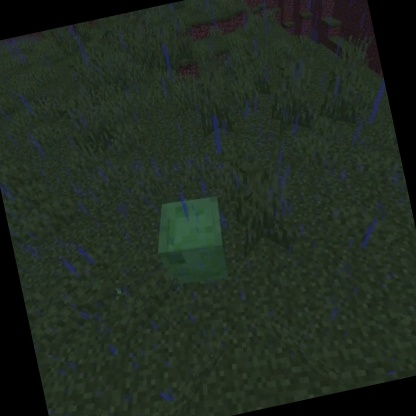slime: (143, 188, 239, 297)
